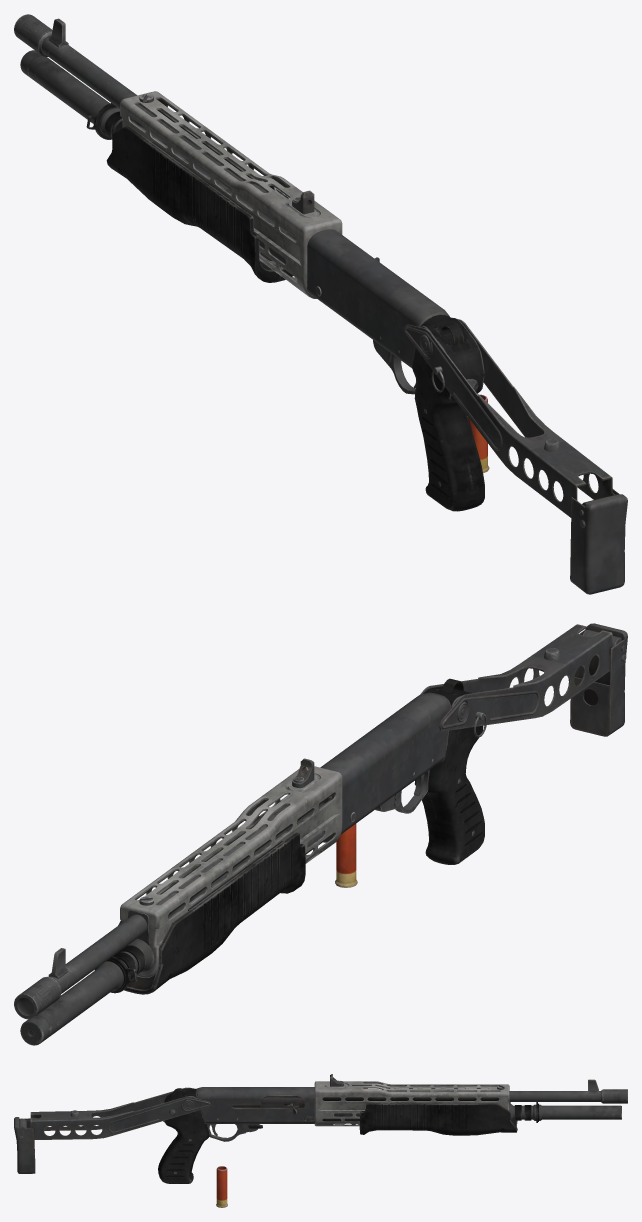
File: the_franchi_spas-12.glb
3 views of the same model, one above another, from view 1: azimuth 30°, elevation 25°; view 2: azimuth 150°, elevation 25°; view 3: azimuth 270°, elevation 25° (orthographic). The views are drawn at different scales.
Visible parts, largest first — view 1: Object_5, Object_3; view 2: Object_5, Object_3; view 3: Object_5, Object_3.
Part boxes in pixels (bbox=[...]): Object_5: bbox=[48, 18, 627, 594]; Object_3: bbox=[14, 14, 617, 527]; Object_5: bbox=[48, 623, 627, 994]; Object_3: bbox=[14, 630, 626, 1045]; Object_5: bbox=[14, 1074, 598, 1207]; Object_3: bbox=[19, 1081, 627, 1183].
Bounding box in the file's own units: 0.1036 × 0.2124 × 1.04.
Materials: 2 (2 with a texture image).
